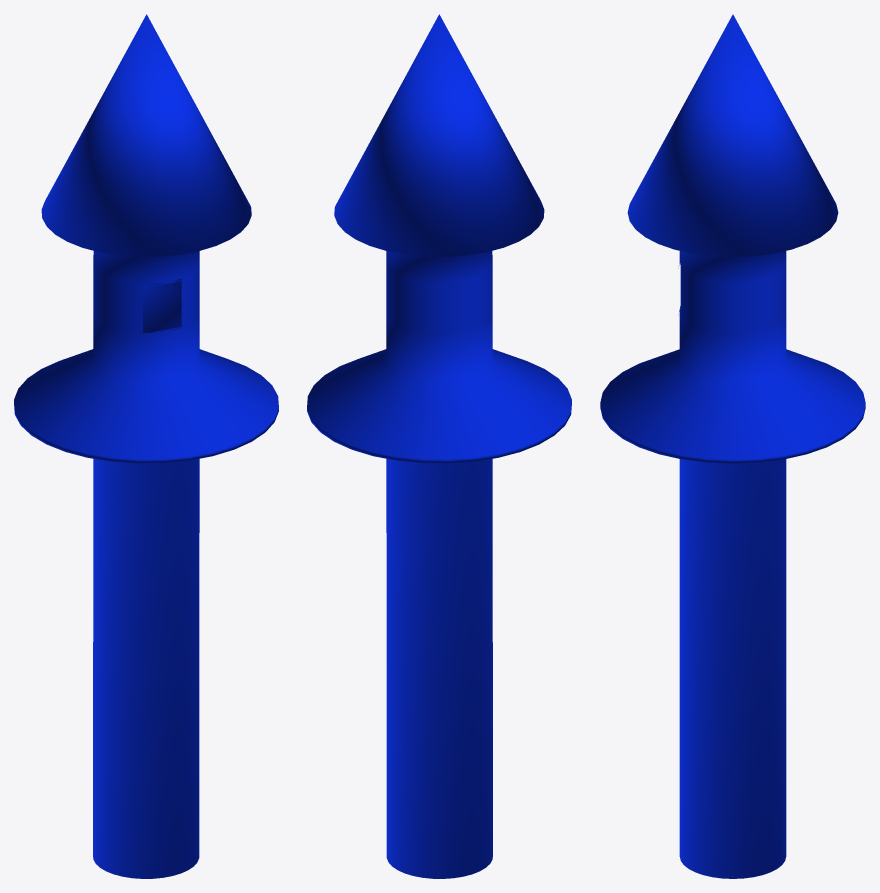
The model's file is project3dweb.glb.
3 renders of one model, left to right at view 1: azimuth 30°, elevation 25°; view 2: azimuth 150°, elevation 25°; view 3: azimuth 270°, elevation 25°, orthographic.
Visible parts, largest first — view 1: Коло; view 2: Коло; view 3: Коло.
Part boxes in pixels (x1,y1,x2,y2): Коло: (14,14,278,878); Коло: (307,14,571,878); Коло: (600,14,865,878).
Size of what is drawn, in the model's own units: 3.44 by 12.04 by 3.44.
